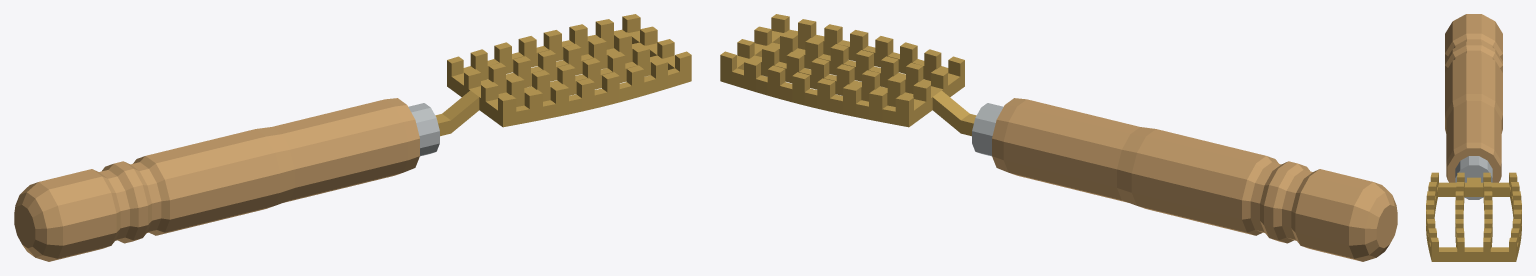
3 views of the same model, side by side, from view 1: azimuth 30°, elevation 25°; view 2: azimuth 150°, elevation 25°; view 3: azimuth 270°, elevation 25° (orthographic). The views are drawn at different scales.
Visible parts, largest first — view 1: 01_Wood_handle_two_annular_grooves, 04_Integral_four_rail_head_three_through_slots_and_short_tee, 02_Metal_collar, 03_Bent_metal_neck; view 2: 01_Wood_handle_two_annular_grooves, 04_Integral_four_rail_head_three_through_slots_and_short_tee, 02_Metal_collar, 03_Bent_metal_neck; view 3: 01_Wood_handle_two_annular_grooves, 04_Integral_four_rail_head_three_through_slots_and_short_tee, 02_Metal_collar, 03_Bent_metal_neck.
Part boxes in pixels (x1,y1,x2,y2): 01_Wood_handle_two_annular_grooves: [14, 98, 419, 261]; 04_Integral_four_rail_head_three_through_slots_and_short_tee: [447, 14, 691, 127]; 02_Metal_collar: [408, 103, 439, 156]; 03_Bent_metal_neck: [435, 90, 479, 136]; 01_Wood_handle_two_annular_grooves: [992, 98, 1397, 261]; 04_Integral_four_rail_head_three_through_slots_and_short_tee: [720, 14, 964, 127]; 02_Metal_collar: [972, 103, 1003, 156]; 03_Bent_metal_neck: [932, 90, 976, 136]; 01_Wood_handle_two_annular_grooves: [1445, 14, 1502, 182]; 04_Integral_four_rail_head_three_through_slots_and_short_tee: [1426, 172, 1521, 261]; 02_Metal_collar: [1455, 156, 1492, 199]; 03_Bent_metal_neck: [1467, 177, 1480, 182].
Bounding box in the file's own units: 0.203 × 0.022 × 0.035.
